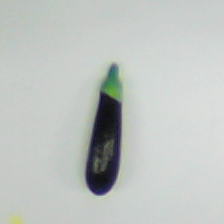eggplant: (41, 51, 178, 202)
